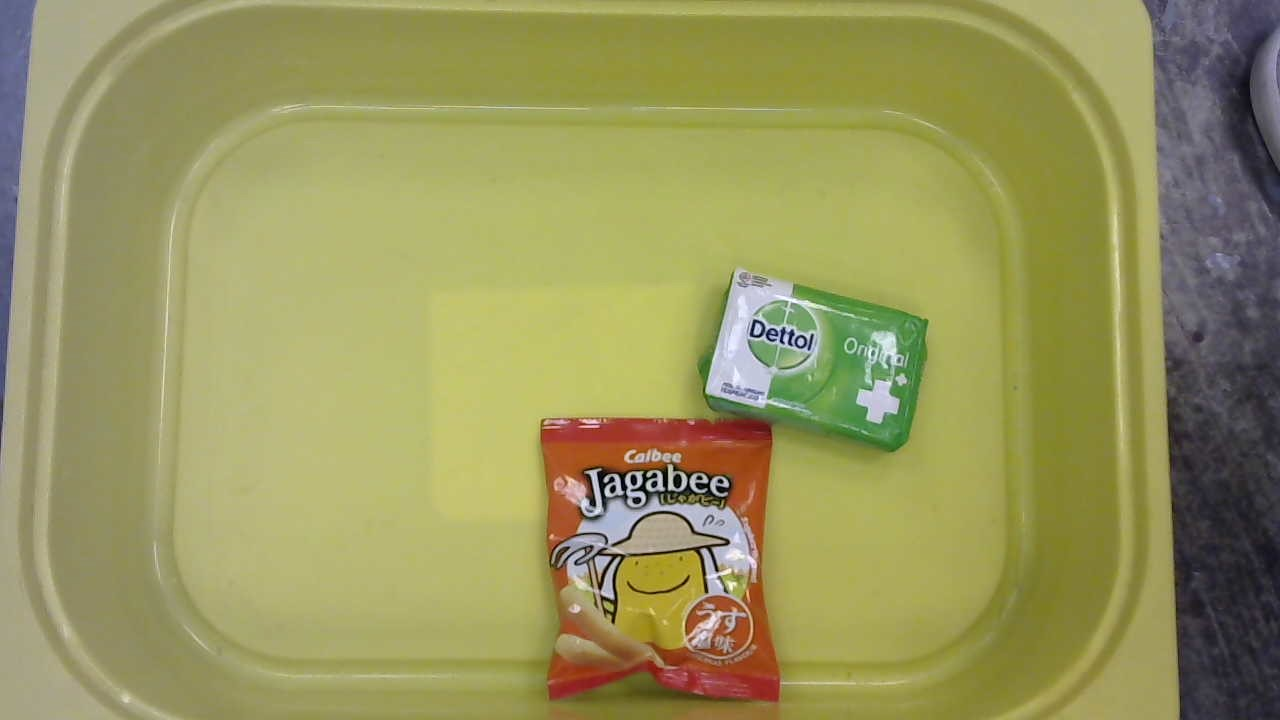Dettol: (703, 263, 936, 460)
JagabeeFarmer: (532, 412, 788, 711)
